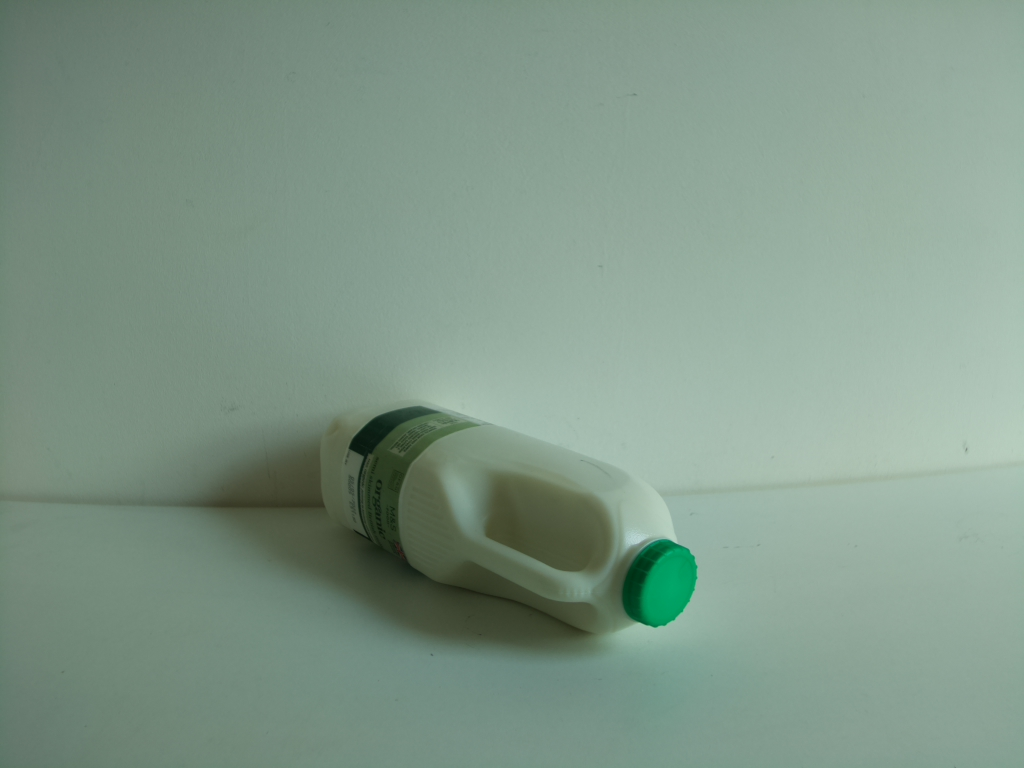milk: (312, 387, 696, 659)
